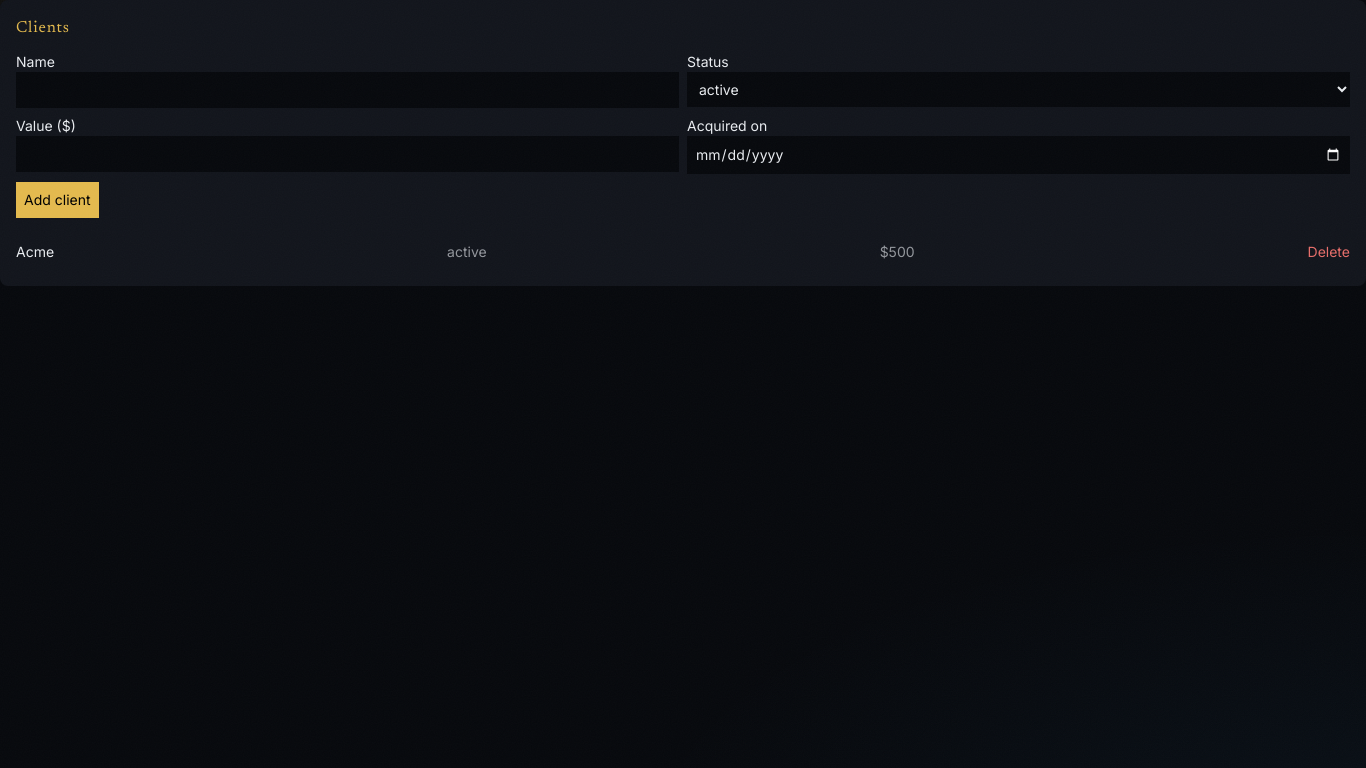
Test: ClientsAdmin › surfaces a failed delete instead of failing silently
What coordinates should you click on to do the following:
click the button with aria-label "delete acme"
I would click on:
 (1329, 252)
Its box is top-left (1308, 242), bottom-right (1350, 262).
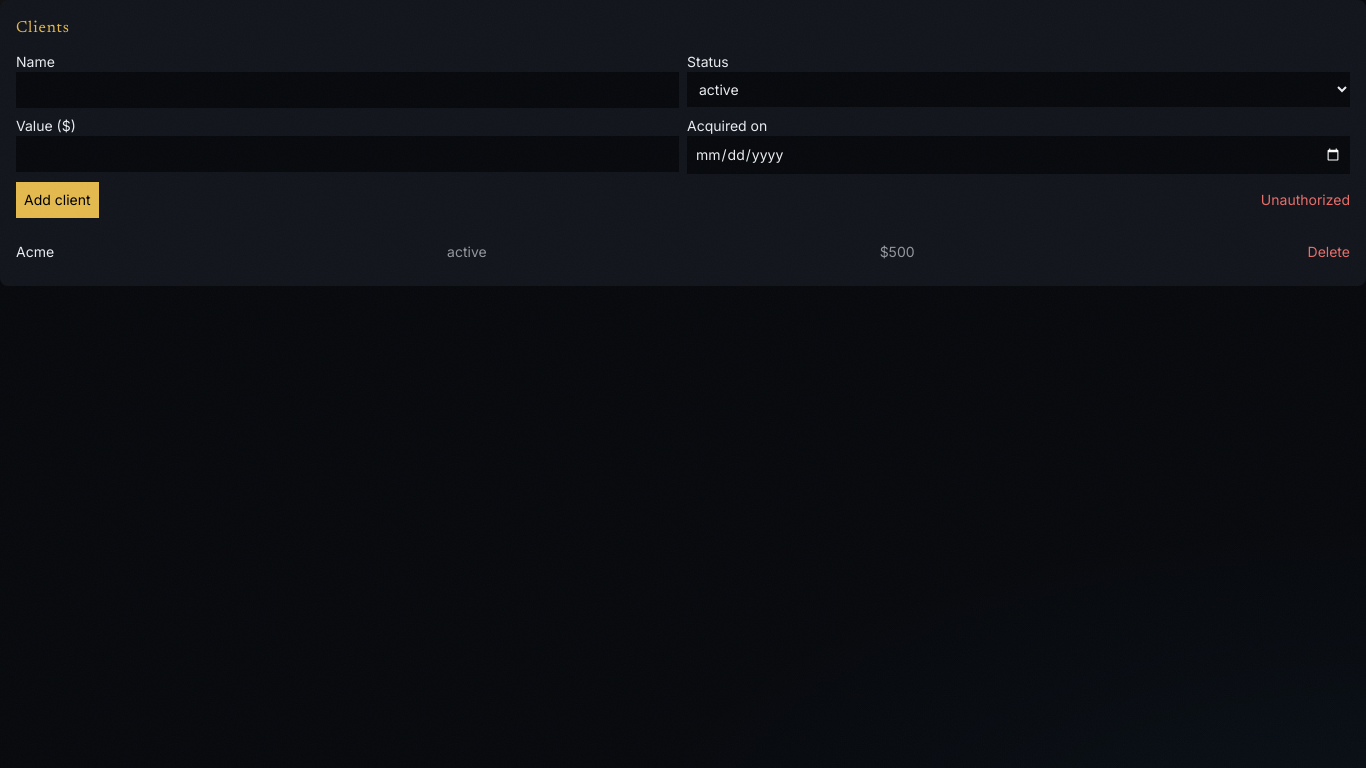
Expected: the message reads "Unauthorized", top-left (1261, 191), bottom-right (1350, 208)
